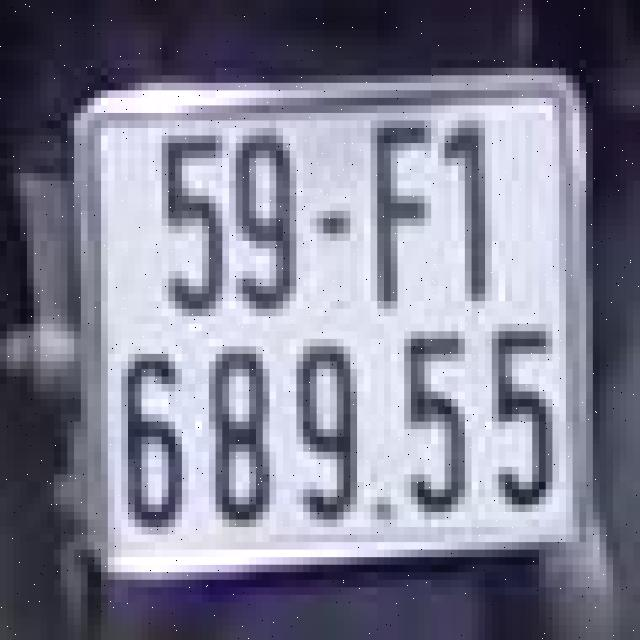1: (441, 109, 509, 313)
5: (138, 113, 233, 324), (394, 320, 475, 516), (485, 320, 552, 508)
6: (108, 346, 188, 542)
8: (198, 339, 280, 542)
9: (283, 328, 377, 538), (229, 128, 310, 324)
F: (354, 113, 441, 324)
